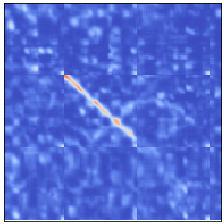action_path: (62, 75, 136, 149)
